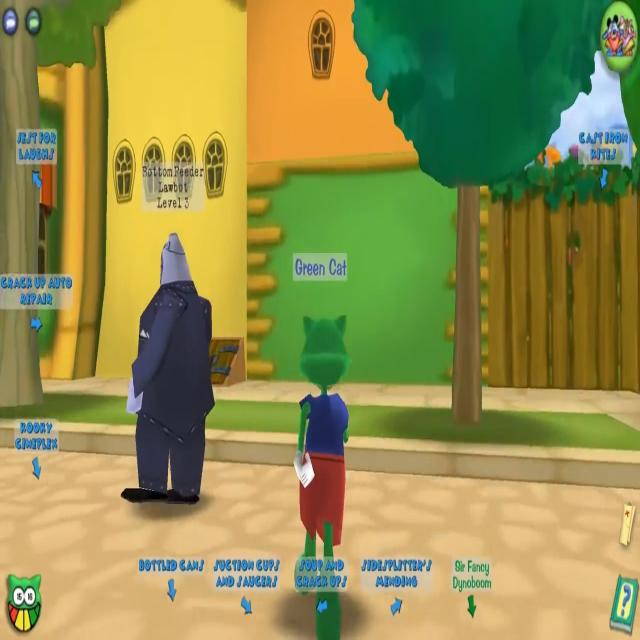bottomfeeder: (117, 152, 219, 514)
